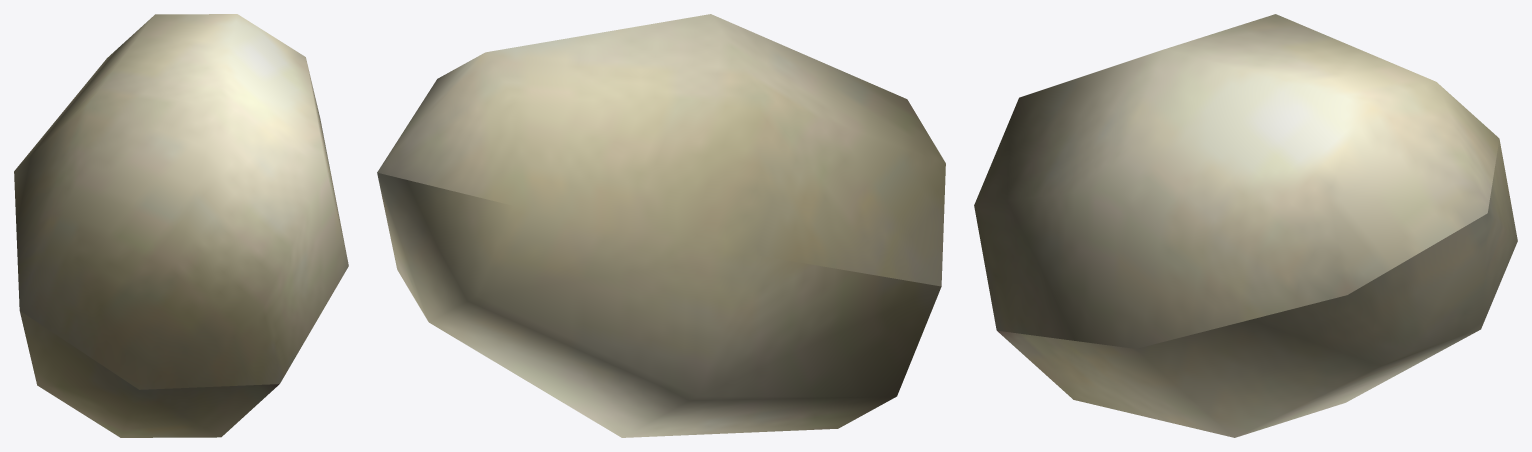
The picture shows the model from 3 angles, left to right: view 1: azimuth 30°, elevation 25°; view 2: azimuth 150°, elevation 25°; view 3: azimuth 270°, elevation 25°; orthographic projection. The views are drawn at different scales.
Parts seen in each view (by area): view 1: egg; view 2: egg; view 3: egg.
Part boxes in pixels (x1,y1,x2,y2): egg: (14, 14, 348, 437); egg: (377, 14, 945, 437); egg: (974, 14, 1517, 437).
Size of the model in its own units: 20.42 by 16.69 by 21.14.
Materials: 1 (1 with a texture image).
